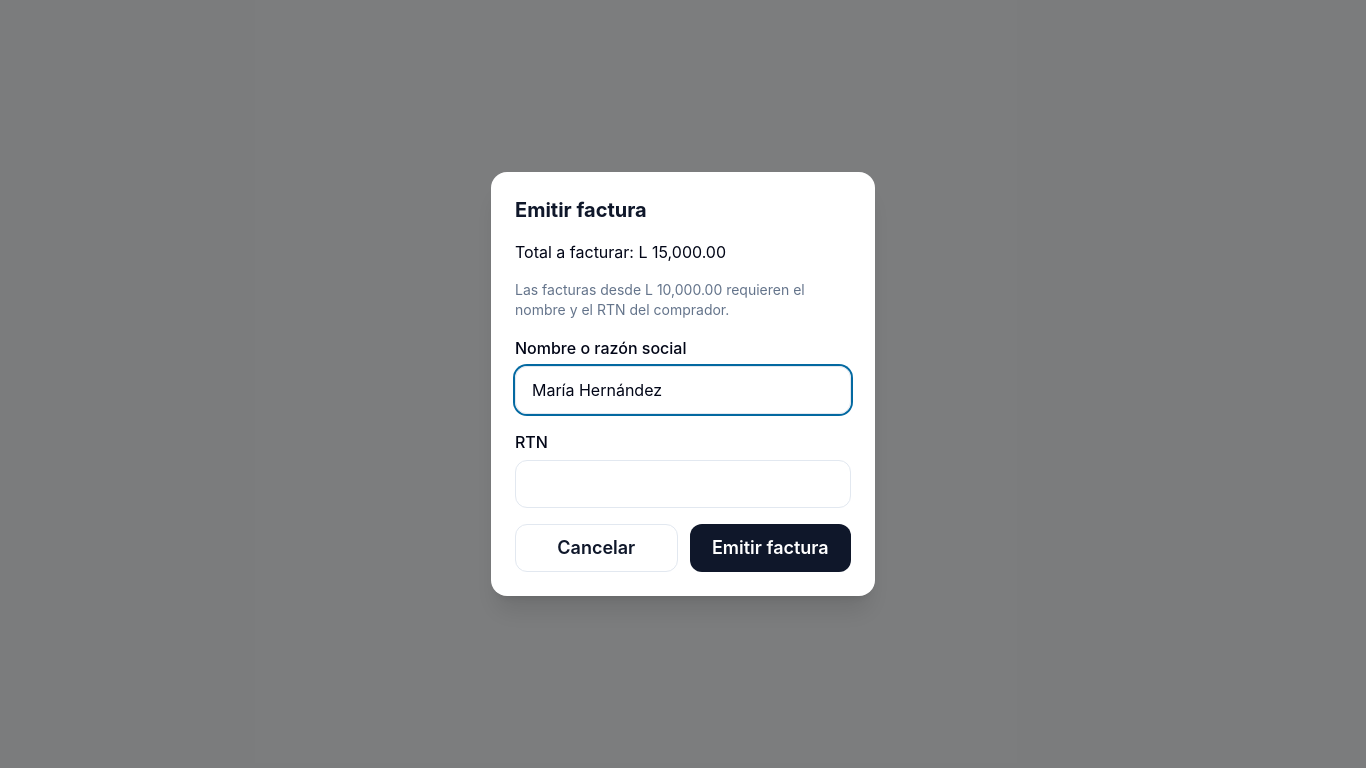
Test case: IssueInvoiceDialog › blocks submit until both name and RTN are filled once the total is at or above the identification threshold
Step 1. Clear the field showing "María Hernández" → (683, 390), box [515, 366, 851, 414]
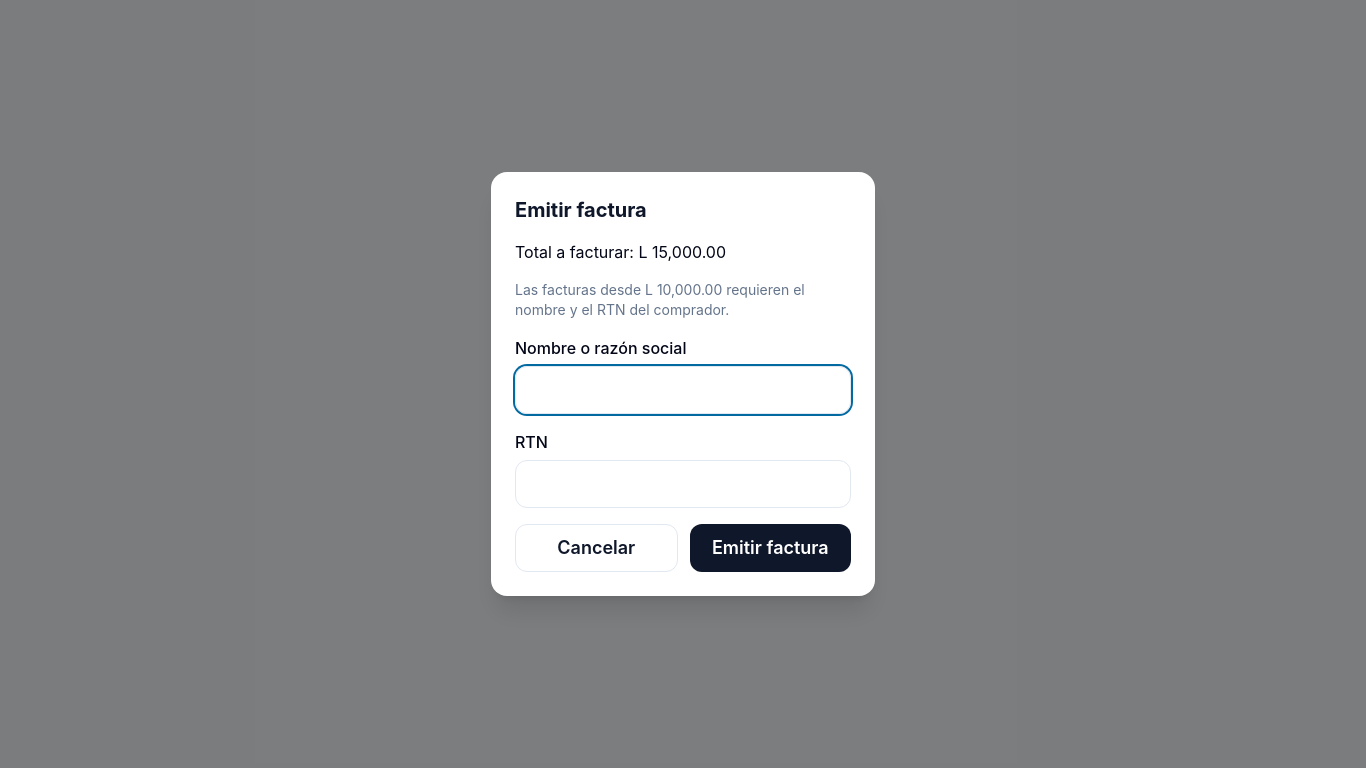
Step 2. Type "08011990123456" into the field labelled "RTN" → (683, 484), box [515, 460, 851, 508]
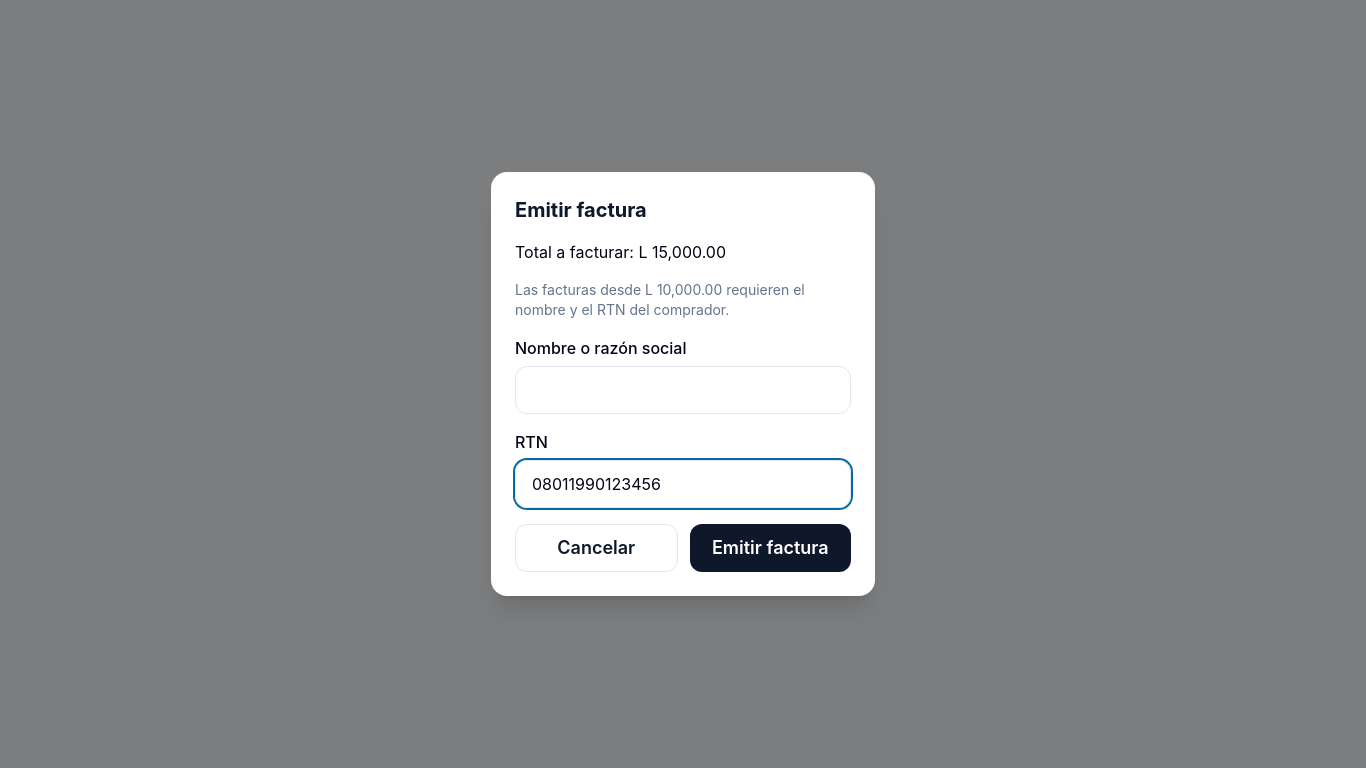
Step 3. Click the button "Emitir factura" → (770, 548), box [690, 524, 851, 572]
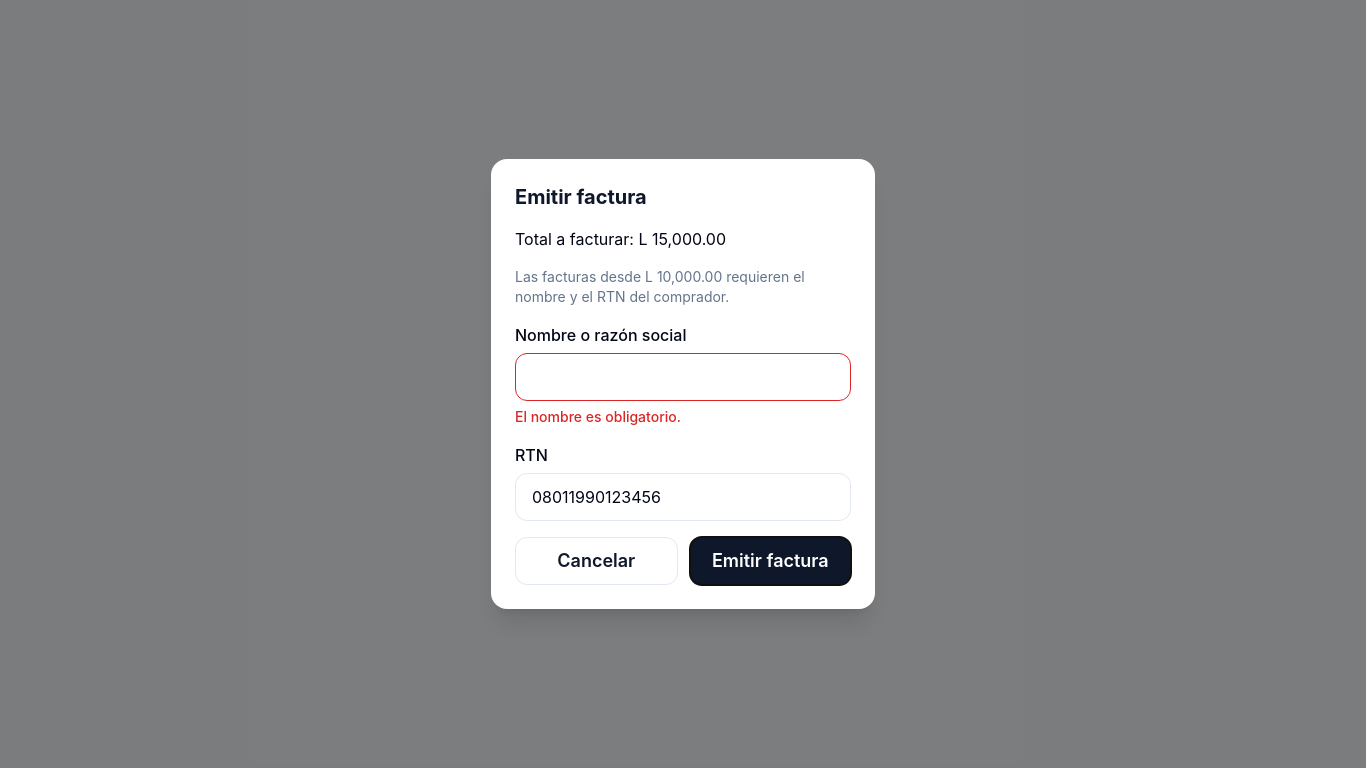
Now the text "El nombre es obligatorio." is shown, box [515, 408, 681, 425]
